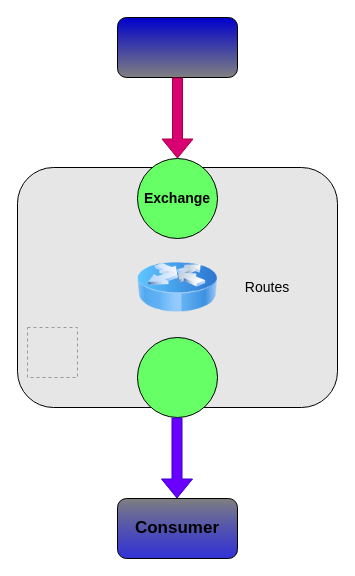
Some shapes in this 355 by 576 pixel diagram are drawn without their labels. Grey dashed boxes stand in for pictures. The box of each missing label's shape, as (x1, y1, x2, y2) in pixels:
Publisher: (116, 16, 238, 78)
Queue: (136, 336, 218, 418)
